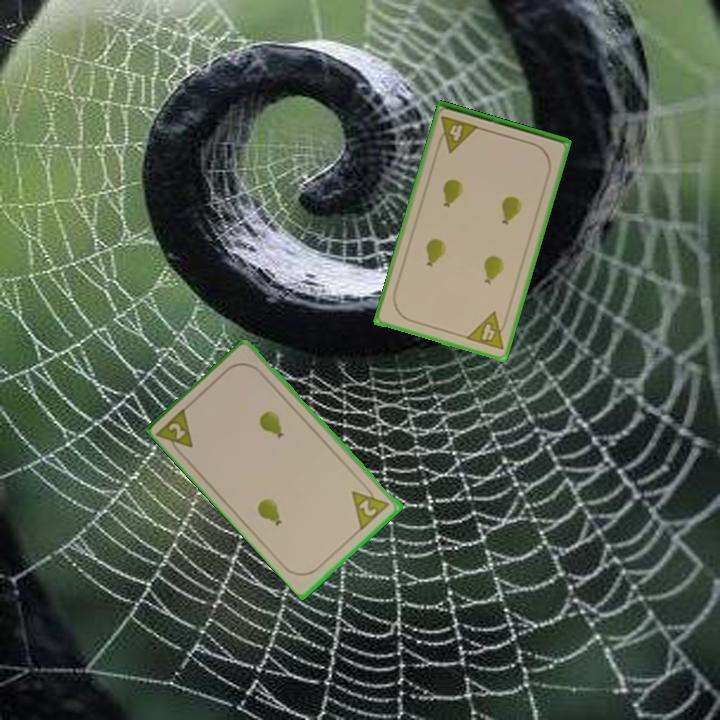2p: (154, 403, 197, 460), (348, 479, 393, 532)
4p: (462, 308, 512, 353), (433, 112, 482, 155)
